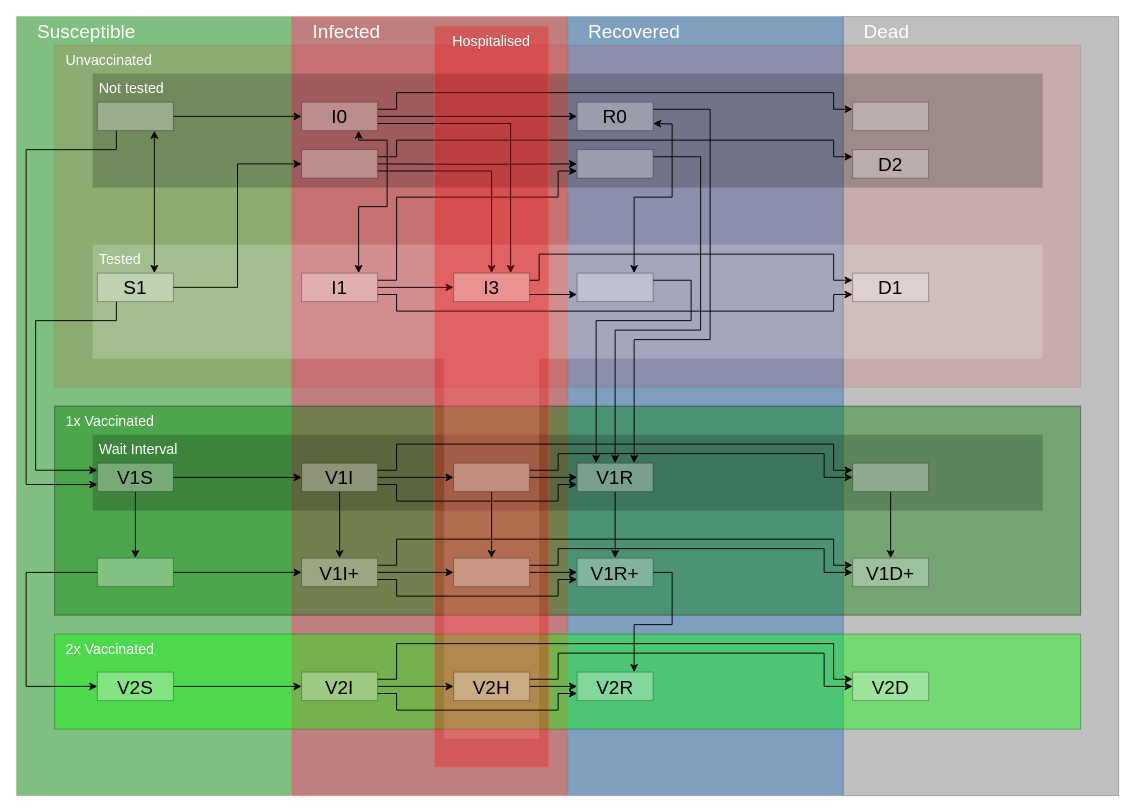
This 1135x812 diagram has some shape labels left out. The centre of each missing label's shape, as x and y in pixels:
"D0" goes at point (890, 116).
"I2" goes at point (339, 163).
"R1" goes at point (614, 287).
"R2" goes at point (614, 163).
"S0" goes at point (134, 116).
"V1D" goes at point (890, 477).
"V1H" goes at point (491, 477).
"V1H+" goes at point (491, 572).
"V1S+" goes at point (134, 572).
